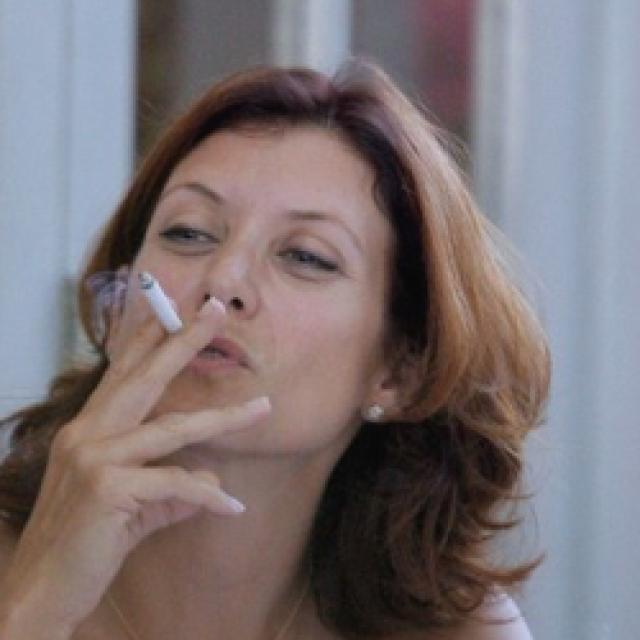Smooking: (127, 253, 199, 330)
